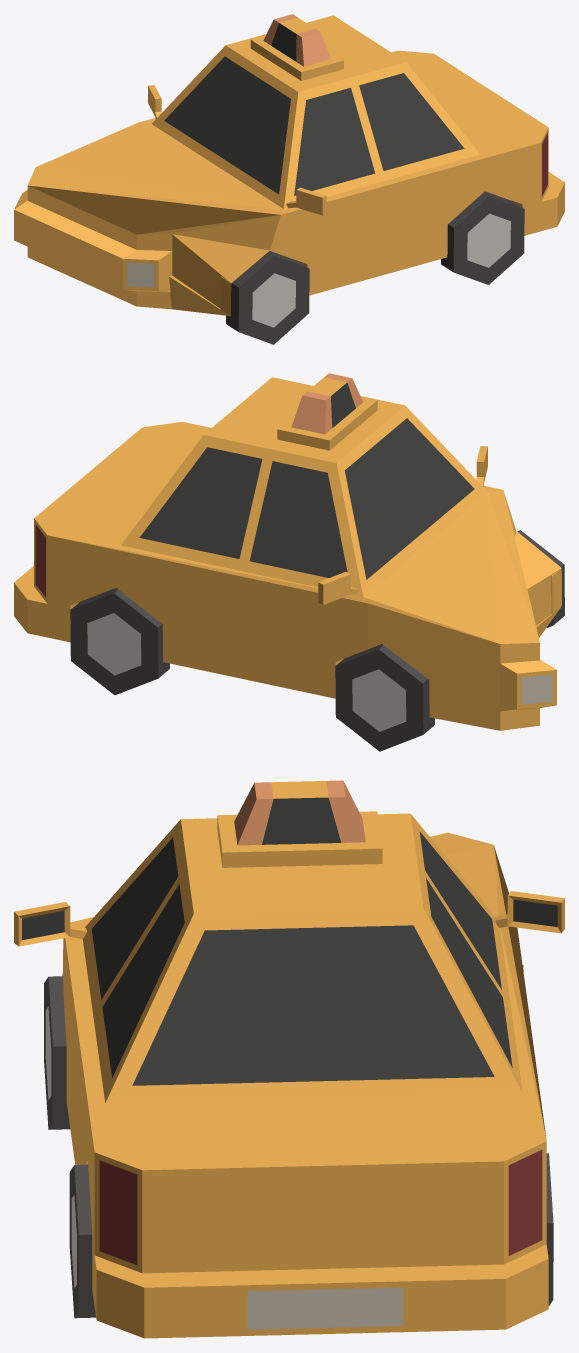
The model's file is 11 Car2.FBX.
3 renders of one model, top to bottom at view 1: azimuth 30°, elevation 25°; view 2: azimuth 150°, elevation 25°; view 3: azimuth 270°, elevation 25°, orthographic. The views are drawn at different scales.
Visible parts, largest first — view 1: Car2; view 2: Car2; view 3: Car2.
Boxes of the visible parts, x1,y1,x2,y2 form: Car2: (14,14,564,344); Car2: (14,373,564,751); Car2: (14,780,564,1338).
Bounding box in the file's own units: 1082 × 540 × 641.
